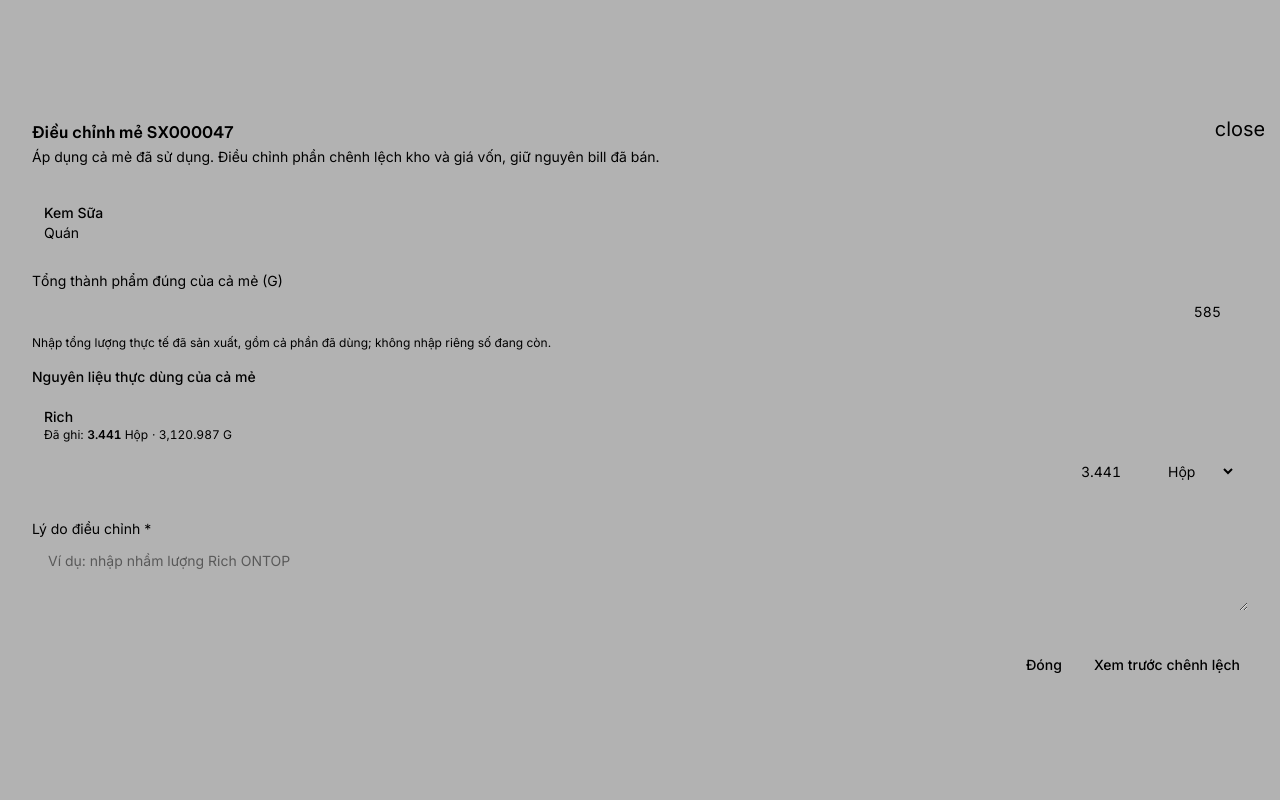
Scenario: production correction workflow › preserves entered quantities when preview fails without attempting a write
Replace the text in the number field named "Thực dùng Rich" with "0.441": (596, 471) x1=44 y1=451 x2=1148 y2=491
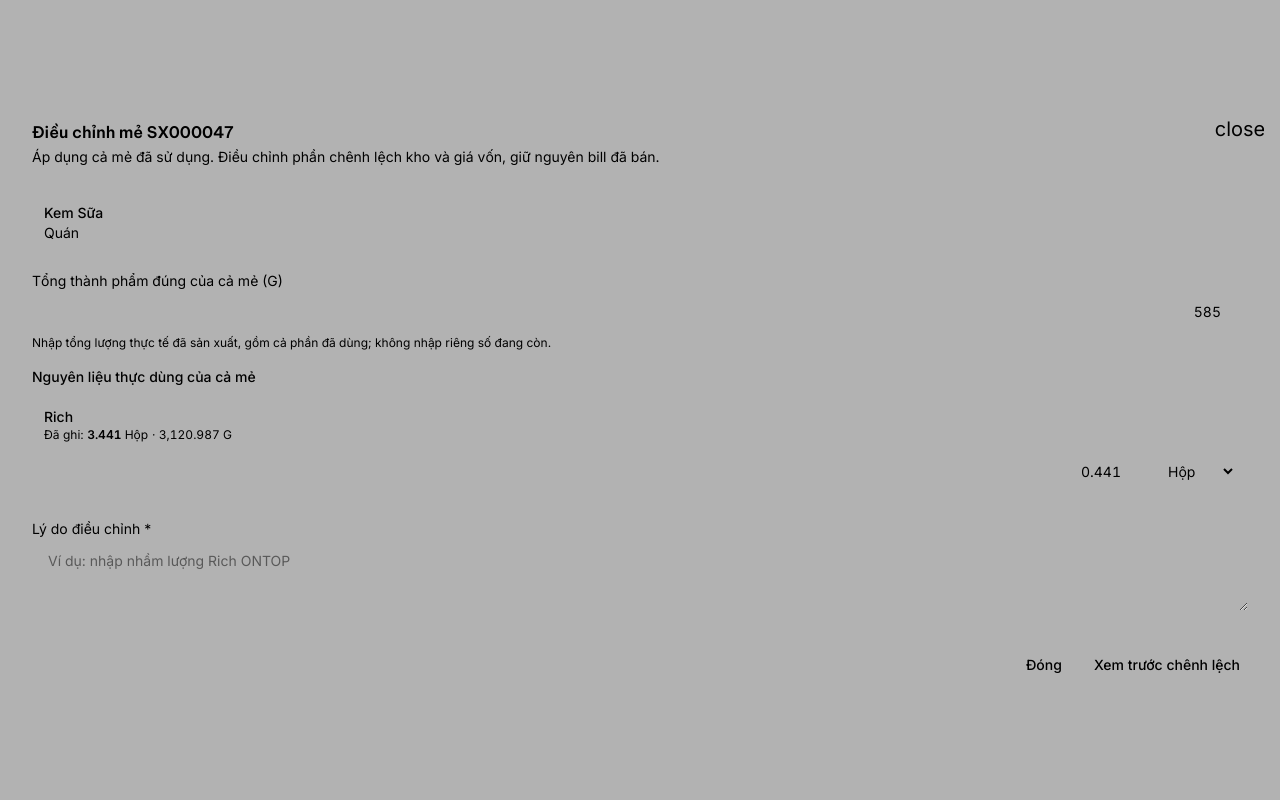
In the text box with placeholder "Ví dụ: nhập nhầm lượng Rich ONTOP": (640, 575) x1=32 y1=539 x2=1248 y2=611, type "Nhập nhầm"
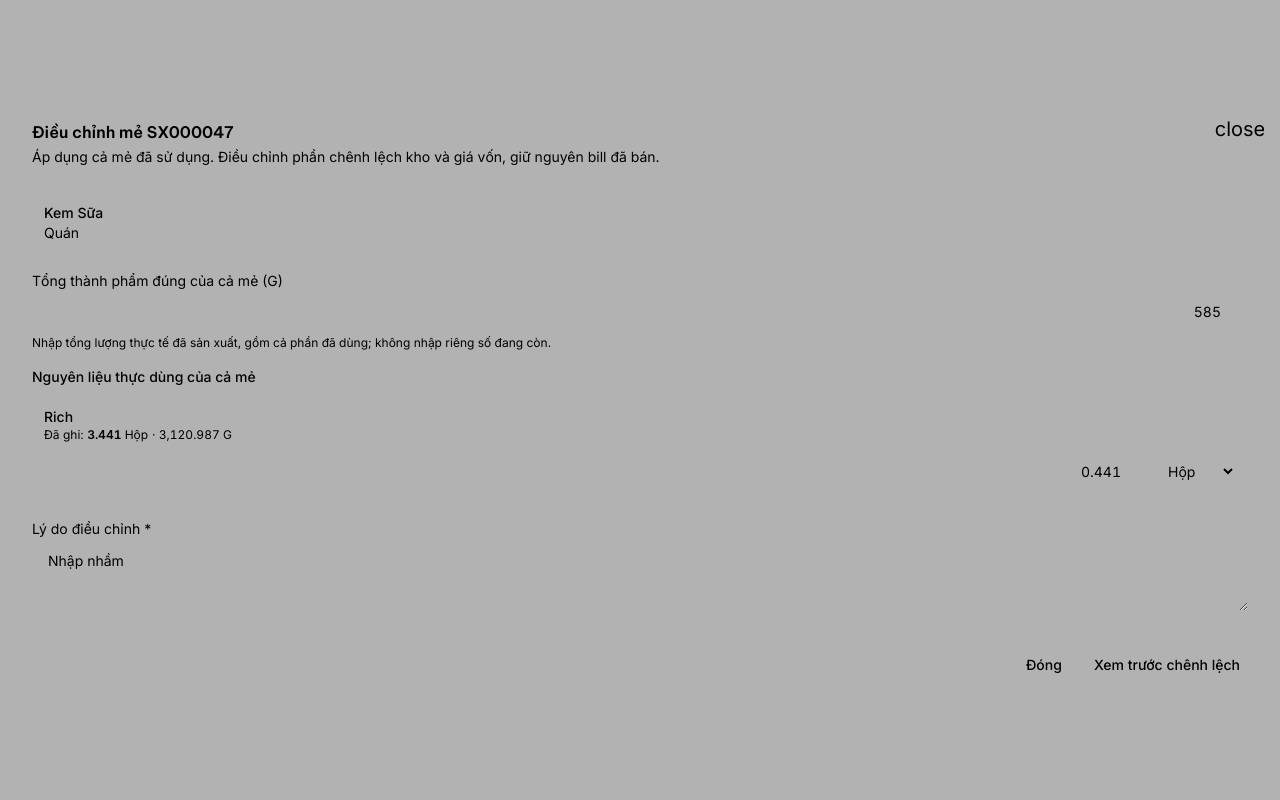
Click the button "Xem trước chênh lệch": (1167, 665) x1=1082 y1=647 x2=1252 y2=683
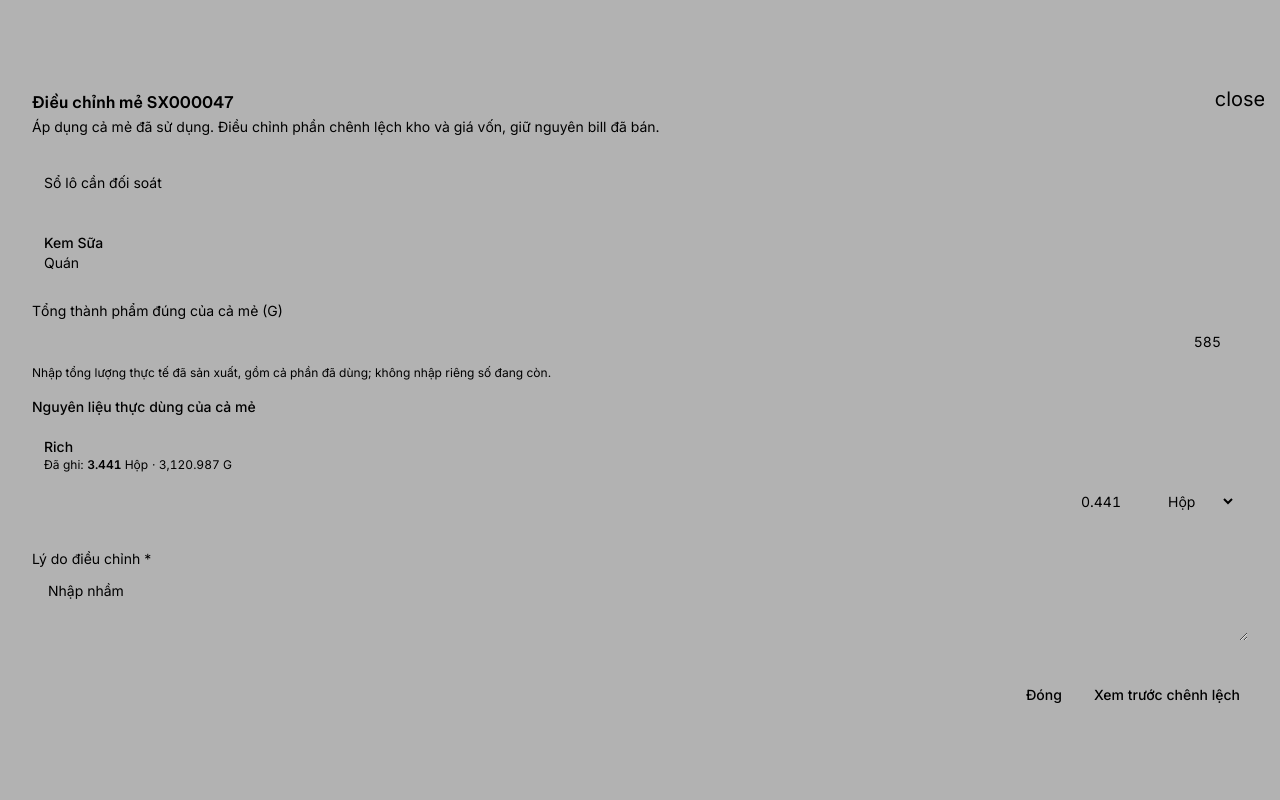
Expected: the message reads "Sổ lô cần đối soát", x1=44 y1=174 x2=162 y2=191
